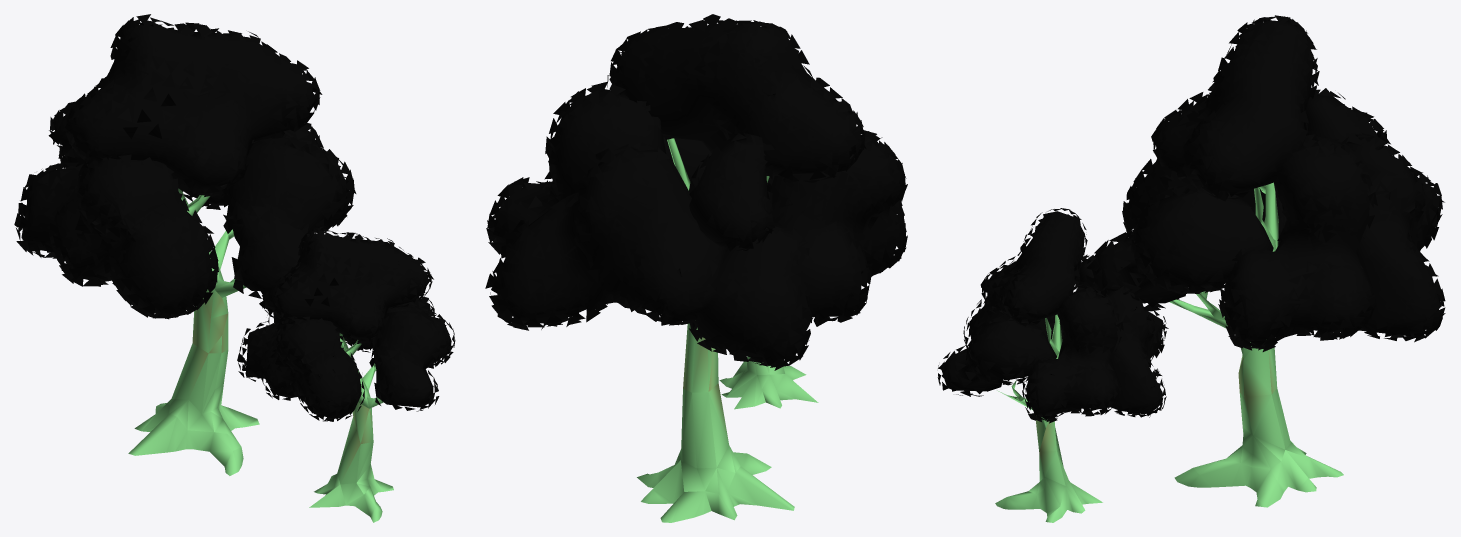
Rendered from SM_ENV_LKNVLD_TreeSet_P_Lod2.gltf.
3 renders of one model, left to right at view 1: azimuth 30°, elevation 25°; view 2: azimuth 150°, elevation 25°; view 3: azimuth 270°, elevation 25°, orthographic. The views are drawn at different scales.
Visible parts, largest first — view 1: SM_ENV_LKNVLD_TreeSet_P_Lod2; view 2: SM_ENV_LKNVLD_TreeSet_P_Lod2; view 3: SM_ENV_LKNVLD_TreeSet_P_Lod2.
Part boxes in pixels (x1=…): SM_ENV_LKNVLD_TreeSet_P_Lod2: x1=14, y1=14, x2=455, y2=522; SM_ENV_LKNVLD_TreeSet_P_Lod2: x1=485, y1=14, x2=907, y2=522; SM_ENV_LKNVLD_TreeSet_P_Lod2: x1=937, y1=15, x2=1445, y2=522.
Bounding box in the file's own units: 13.72 × 19.04 × 19.79.
